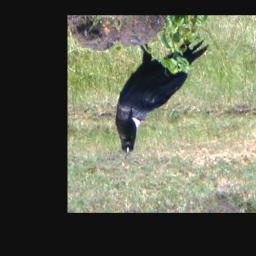Crow: (114, 35, 211, 155)
